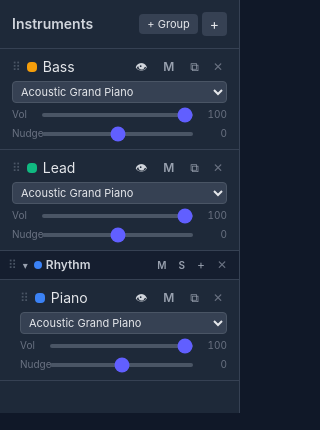
Test: InstrumentsPanel groups › group mute and solo › mutes the group without lighting the M on its instruments
Click the button named "Mute group Rhythm": click(162, 265) left=153, top=258, right=170, bottom=272
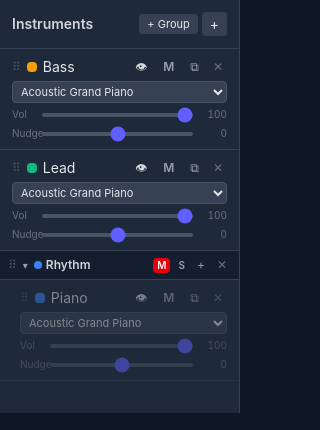
Now the button named "Unmute group Rhythm" is shown, box left=153, top=258, right=170, bottom=272
